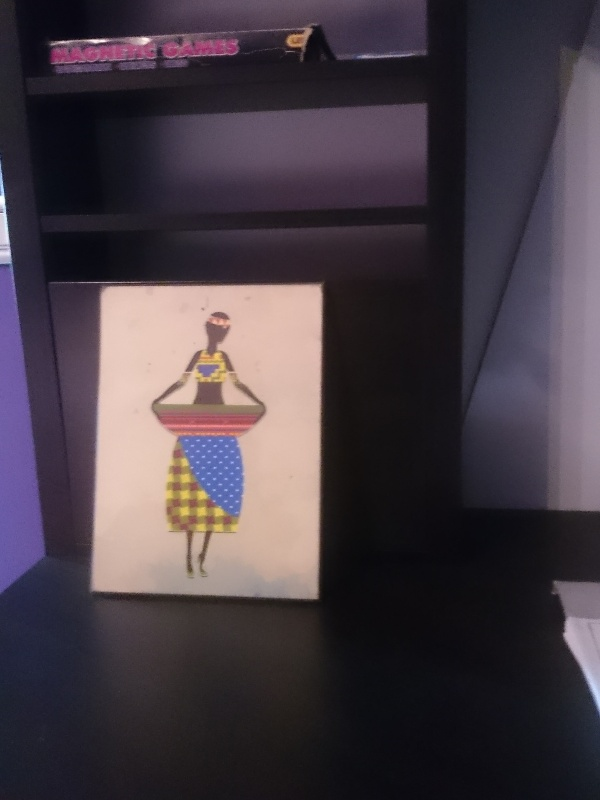my image: (90, 282, 323, 596)
